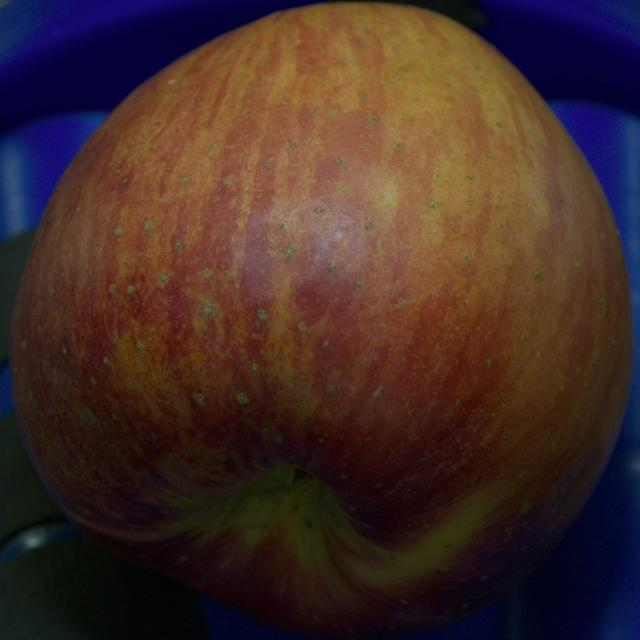apple: (11, 4, 632, 639)
